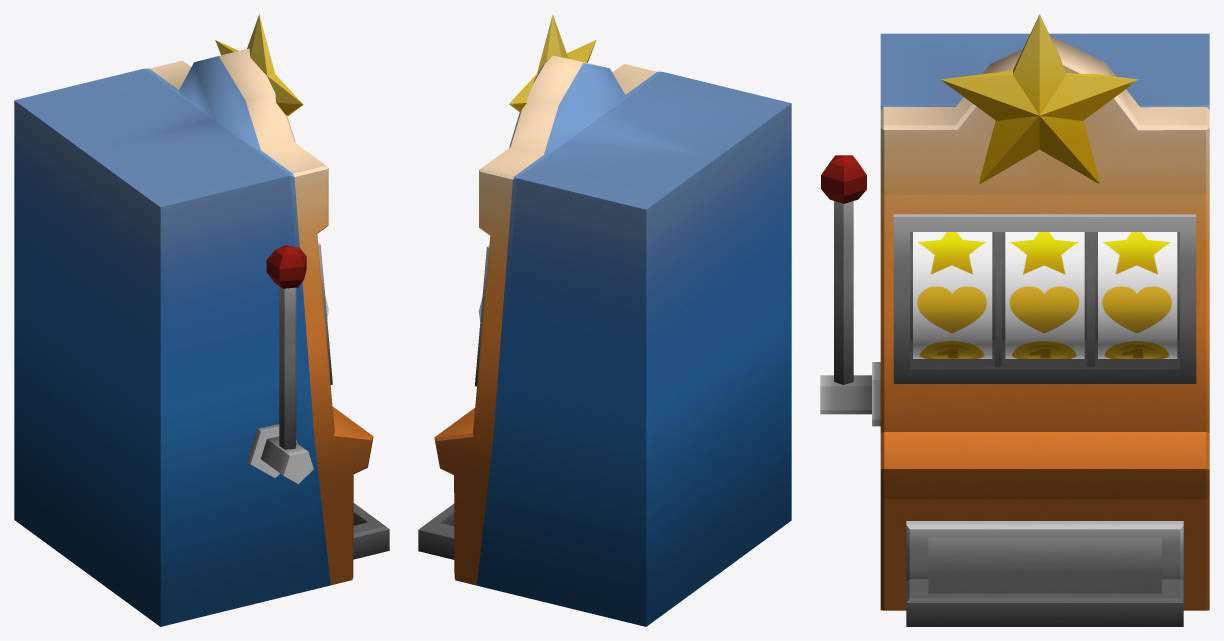
Rendered from SlotMachine_01.fbx.
The picture shows the model from 3 angles, left to right: view 1: azimuth 30°, elevation 25°; view 2: azimuth 150°, elevation 25°; view 3: azimuth 270°, elevation 25°; orthographic projection. The views are drawn at different scales.
Parts seen in each view (by area): view 1: pCube2, pCylinder10; view 2: pCube2; view 3: pCube2, pCylinder14, pCylinder16, pCylinder17, pCylinder10.
Part boxes in pixels (x1,y1,x2,y2): pCube2: (14, 14, 389, 626); pCylinder10: (247, 245, 313, 483); pCube2: (418, 14, 791, 626); pCube2: (880, 14, 1209, 626); pCylinder14: (1005, 232, 1084, 358); pCylinder16: (1098, 232, 1177, 358); pCylinder17: (913, 232, 992, 358); pCylinder10: (820, 155, 880, 426).
Size of the model in its own units: 4.11 by 8.49 by 5.12.
